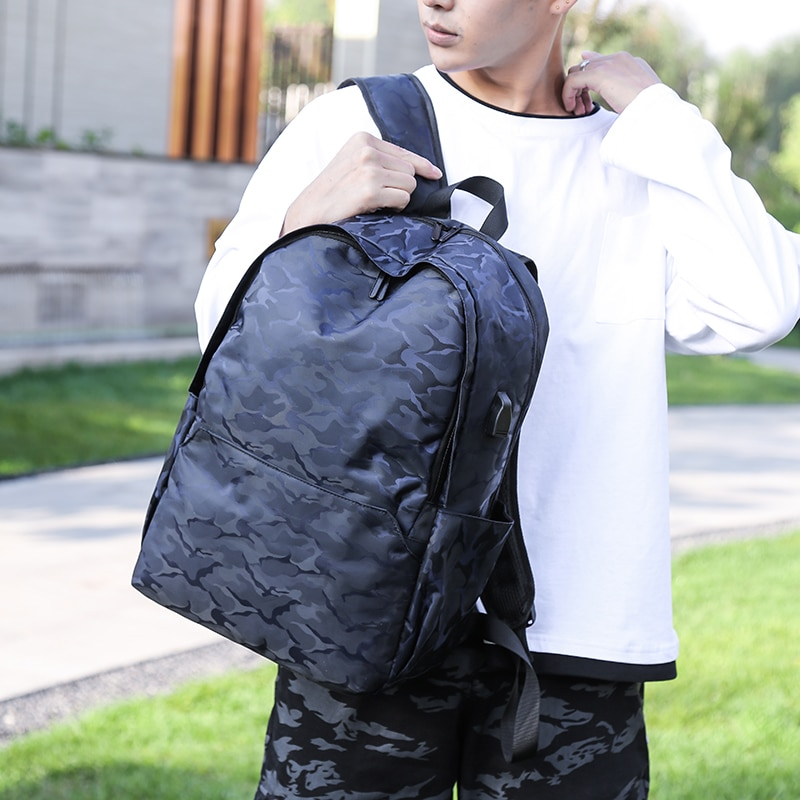Bottoms|Pants: (250, 662, 656, 800)
Men's Backpacks: (127, 78, 549, 701)
Tops: (199, 61, 800, 689)
